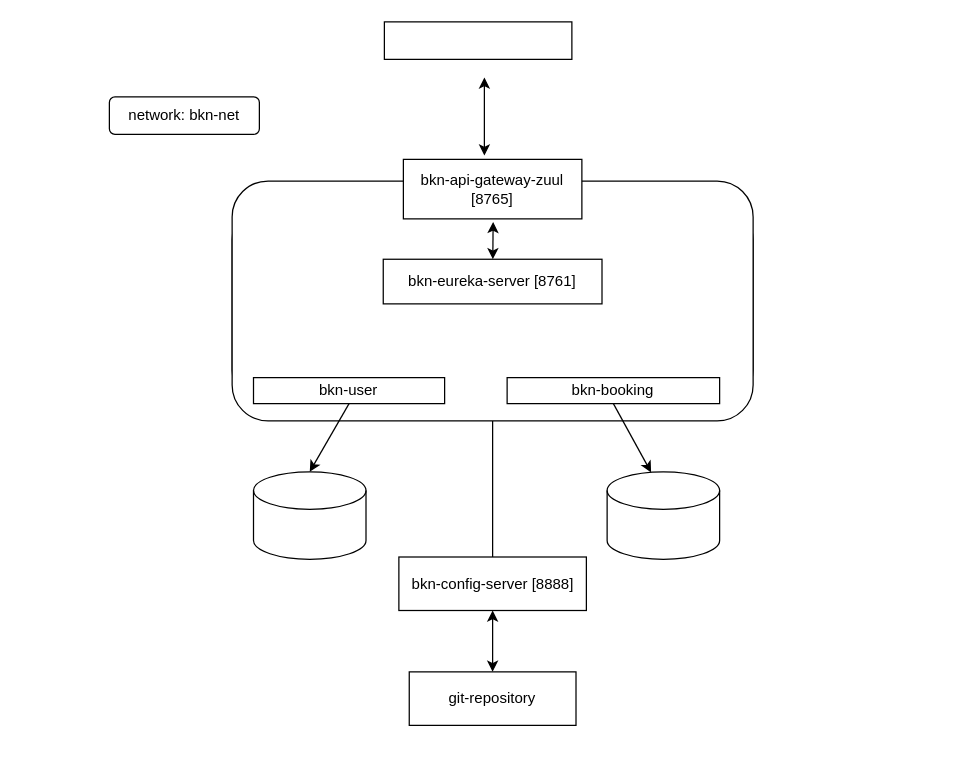
This 955x781 diagram has some shape labels left out. The shapes that lost their labels are listed below. From the top down, each one's box as (x1, y1, x2, y2) in pixels, then its label:
(383, 21, 572, 59): bkn-web [9000]
(252, 470, 366, 559): bkn-db-user-pg [5433]
(606, 470, 720, 559): bkn-db-booking-pg [5432]
